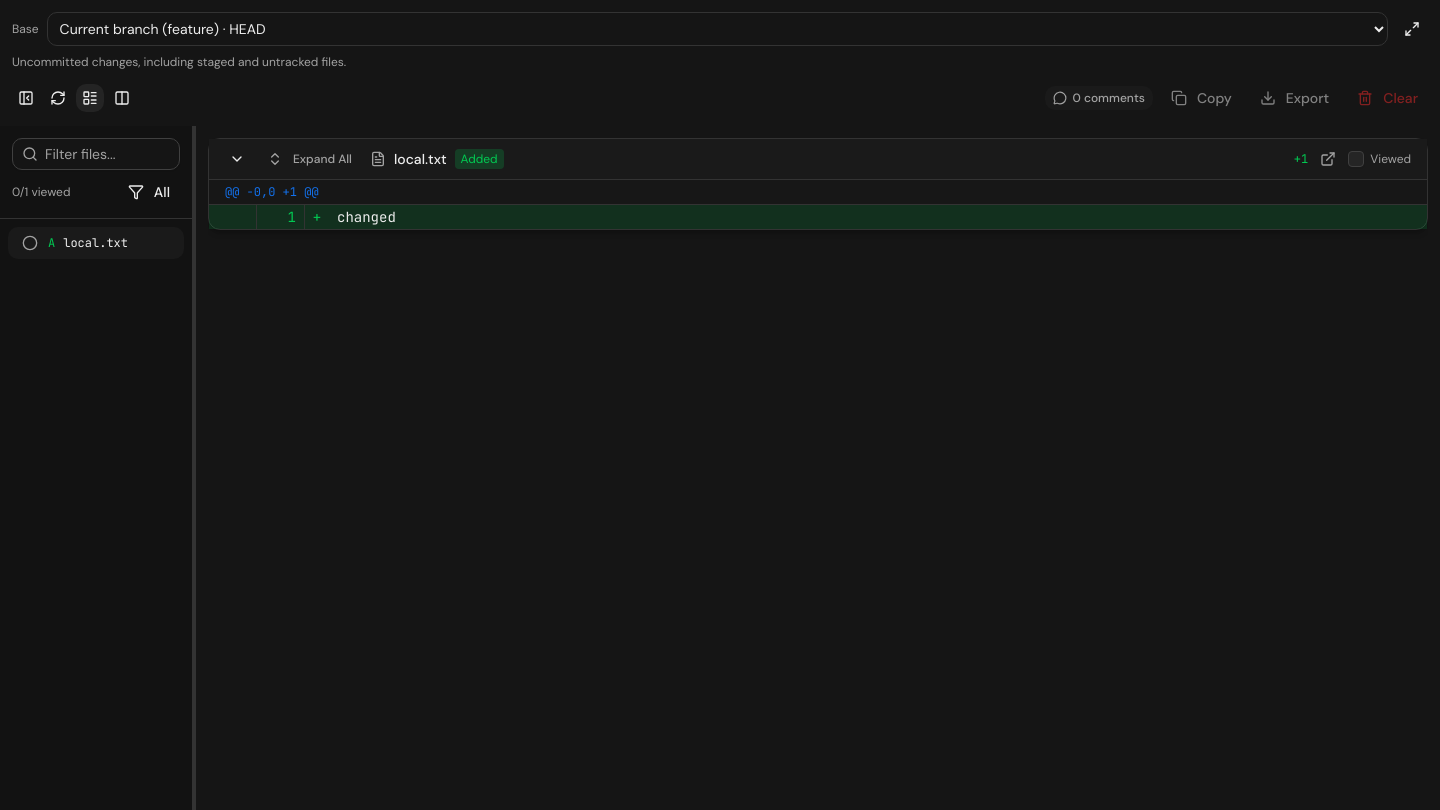
Scenario: ReviewPanel › shows tooltips for the review icon actions
Step 1. Focus the button named "Refresh review" → (58, 98), box [44,84,72,112]
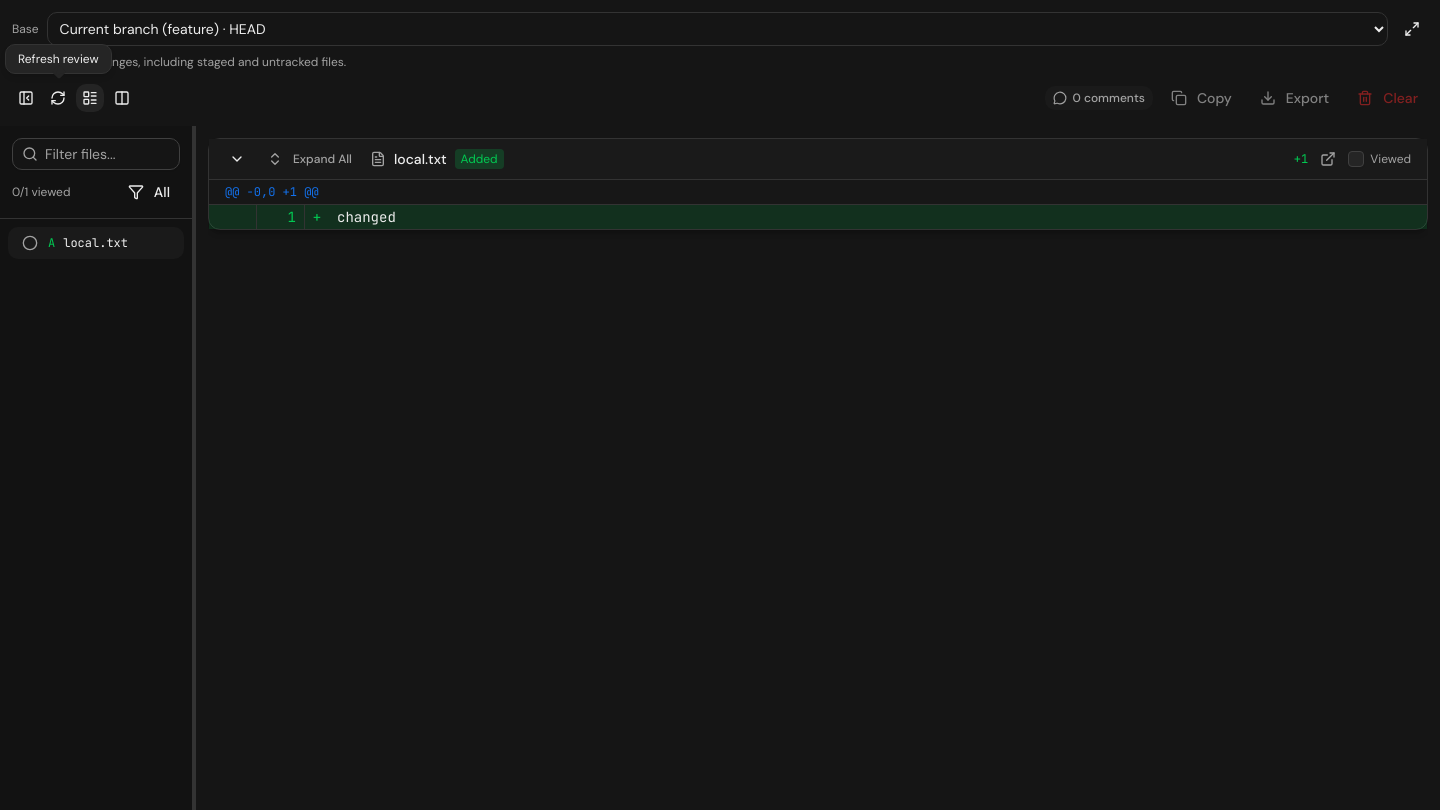
Now the tooltip reads "Refresh review", box [18,51,98,67]
